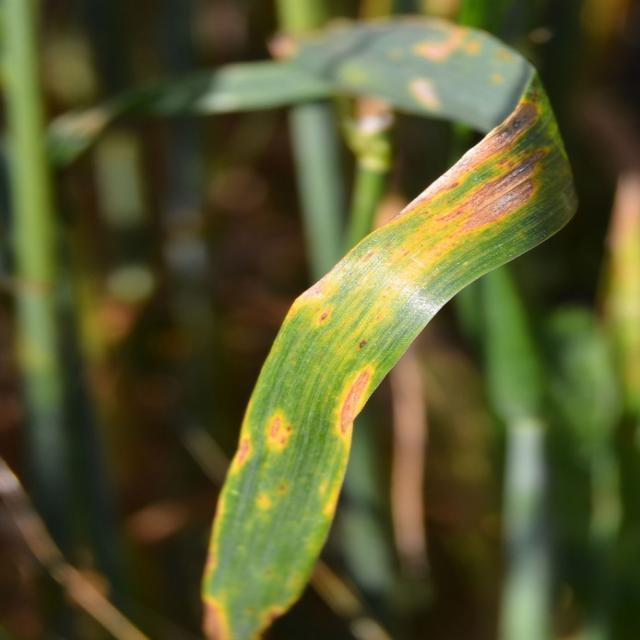Septoria: (206, 255, 388, 616), (409, 105, 547, 277)
